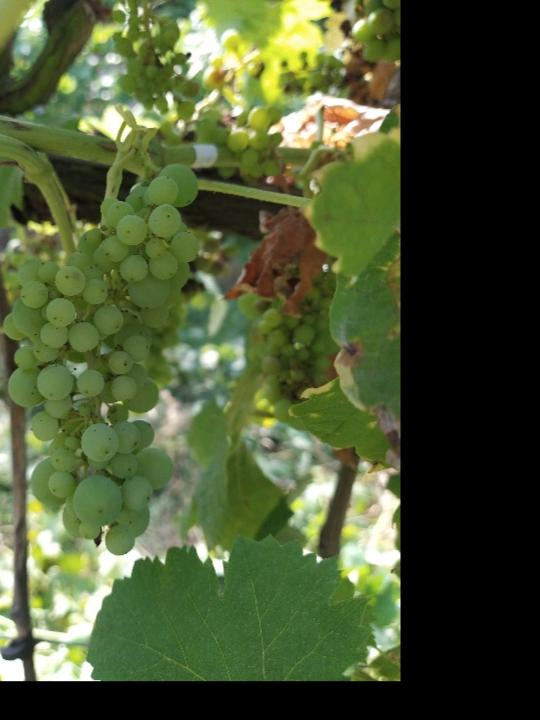grape: (4, 163, 203, 553)
